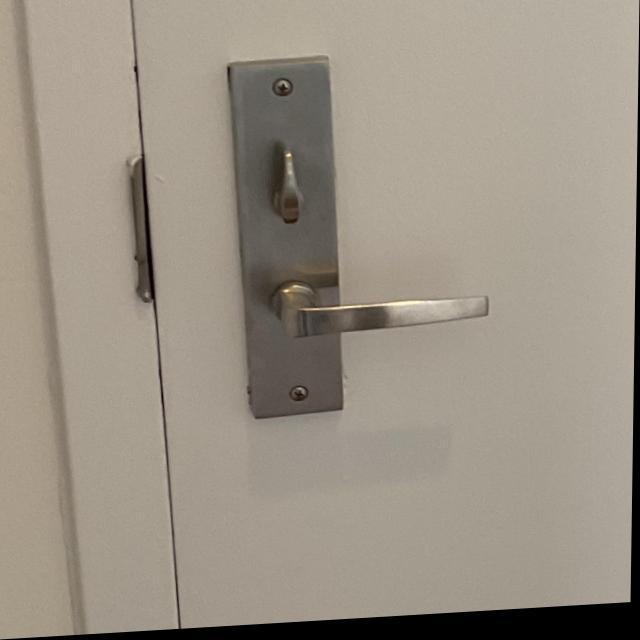door_handle: (249, 271, 510, 357)
